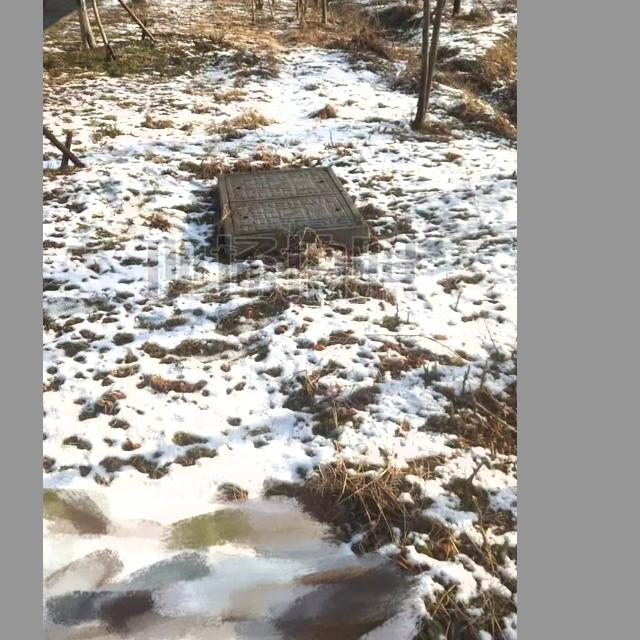circle: (210, 165, 380, 268)
